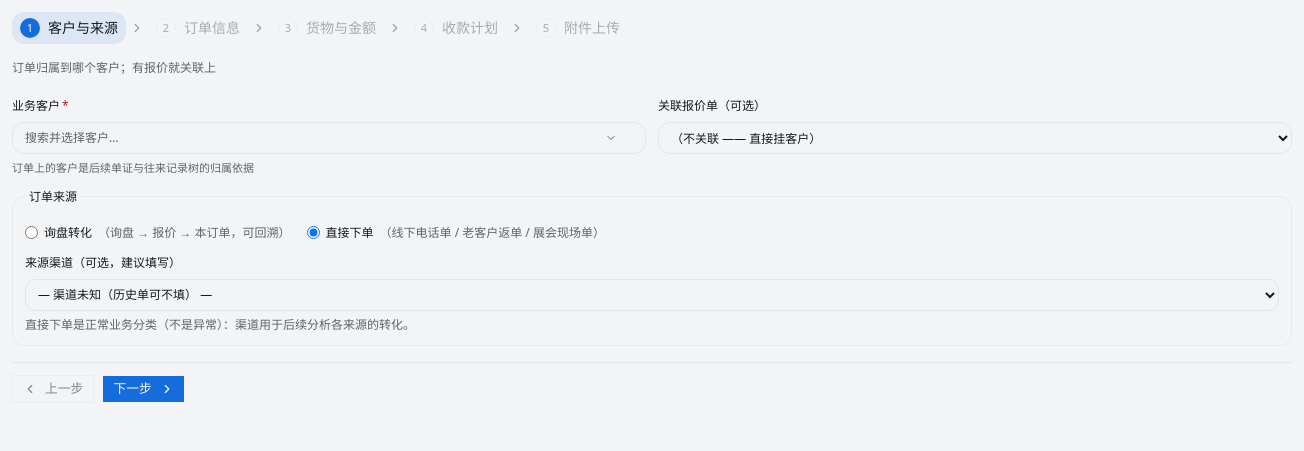
OrderCreateWizard › 第 1 步未选客户：本地拦下并给出业务口径提示
Click the button "下一步" at {"x": 144, "y": 388}, box [102,374,185,402]
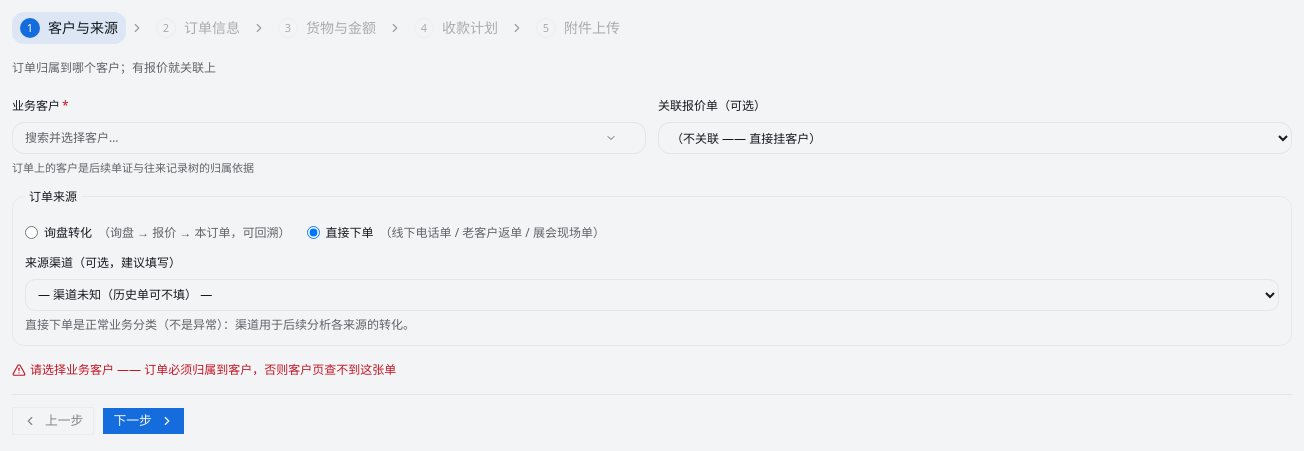
Now the message "请选择业务客户 —— 订单必须归属到客户，否则客户页查不到这张单" is shown, box [12,360,396,378]
